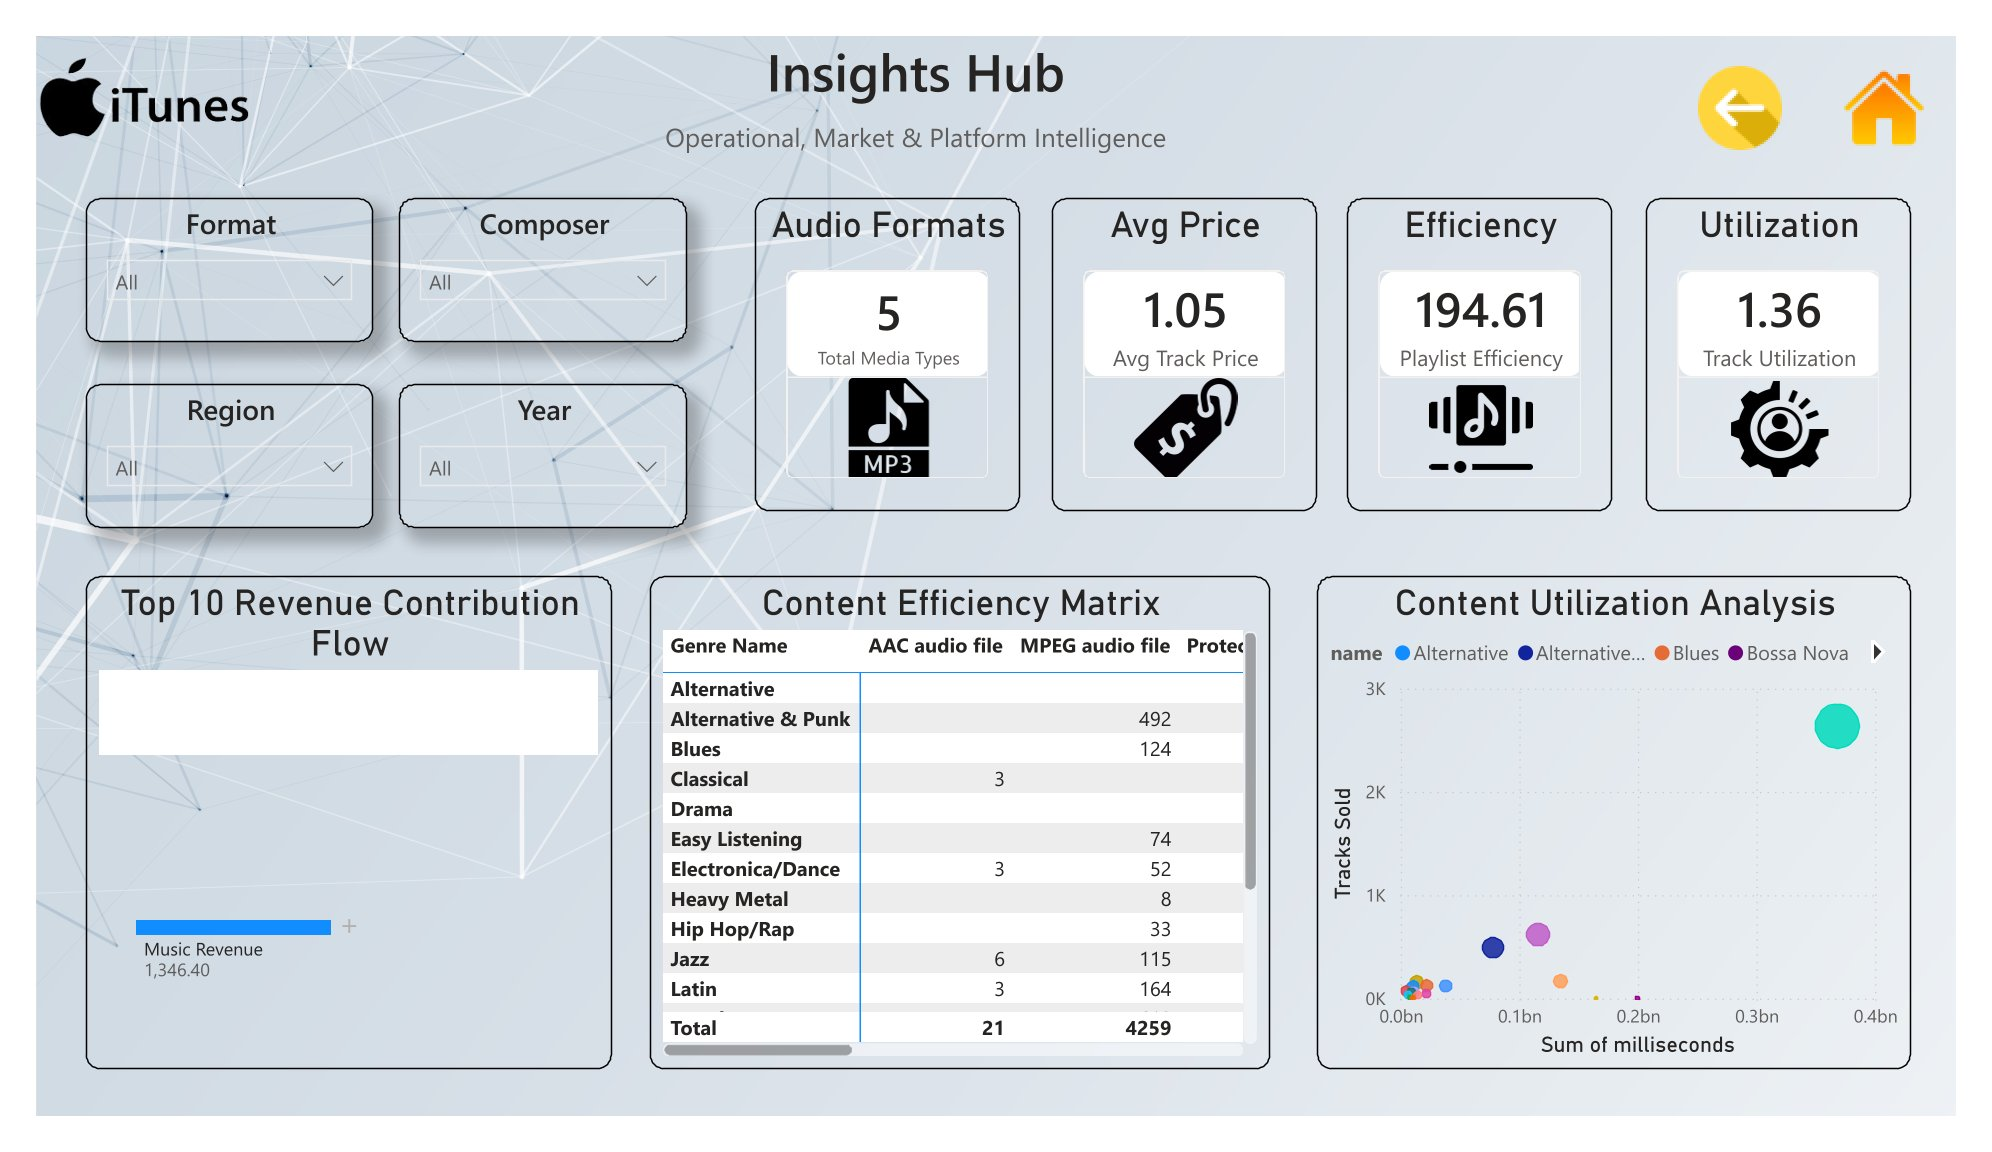

This screenshot's page, from the dashboard's own definition file:
{"tool":"powerbi","page":{"name":"Geographic & Employee Insights","canvas":[1280,720],"ordinal":4},"visuals":[{"type":"image","box":[0,0,1280,720],"z":0},{"type":"image","box":[0,0,144,80],"z":1000},{"type":"actionButton","box":[1184,16,96,64],"z":2000},{"type":"actionButton","box":[1088,16,96,64],"z":3000},{"type":"textbox","title":"Insights Hub","box":[360.7,0,450.8,80],"z":4000},{"type":"slicer","title":"Format","fields":{"Values":["media_type.name"]},"box":[32.9,108.4,192.1,96.1],"z":5000},{"type":"slicer","title":"Composer","fields":{"Values":["track.composer"]},"box":[241.5,108.4,192.1,96.1],"z":6000},{"type":"slicer","title":"Year","fields":{"Values":["invoice.invoice_date.Variation.Date Hierarchy.Year"]},"box":[241.5,231.9,192.1,96.1],"z":7000},{"type":"slicer","title":"Region","fields":{"Values":["customer.state"]},"box":[32.9,231.9,192.1,96.1],"z":8000},{"type":"cardVisual","title":"Audio Formats","fields":{"Data":["media_type.Total Media Types"]},"box":[478.9,108.4,177,208.6],"z":9000},{"type":"cardVisual","title":"Avg Price","fields":{"Data":["track.Avg Track Price"]},"box":[676.5,108.4,177,208.6],"z":10000},{"type":"cardVisual","title":"Efficiency","fields":{"Data":["playlist.Playlist Efficiency"]},"box":[874.1,108.4,177,208.6],"z":11000},{"type":"cardVisual","title":"Utilization","fields":{"Data":["invoice_line.Track Utilization"]},"box":[1073.1,108.4,177,208.6],"z":12000},{"type":"decompositionTreeVisual","title":"Top 10 Revenue Contribution Flow","fields":{"Analyze":["invoice_line.Music Revenue"],"ExplainBy":["genre.name","media_type.name","artist.name","track.composer"]},"box":[32.9,359.5,351.3,329.3],"z":13000},{"type":"pivotTable","title":"Content Efficiency Matrix","fields":{"Rows":["genre.name"],"Columns":["media_type.name"],"Values":["invoice_line.Tracks Sold"]},"box":[408.9,359.5,414.4,329.3],"z":14000},{"type":"scatterChart","title":"Content Utilization Analysis","fields":{"X":["Sum(track.milliseconds)"],"Y":["invoice_line.Tracks Sold"],"Size":["invoice_line.Music Revenue"],"Series":["genre.name"]},"box":[853.5,359.5,396.6,329.3],"z":15000}]}

Visuals, with their boxes in screenshot pixels (x1, y1, x2, y2), scaled from the page's 1280x720 canvas onto the 1992x1152 screenshot:
image: crop(0, 0, 1991, 1151)
image: crop(0, 0, 224, 128)
actionButton: crop(1843, 26, 1991, 128)
actionButton: crop(1693, 26, 1843, 128)
"Insights Hub" textbox: crop(561, 0, 1263, 128)
"Format" slicer: crop(51, 173, 350, 327)
"Composer" slicer: crop(376, 173, 675, 327)
"Year" slicer: crop(376, 371, 675, 525)
"Region" slicer: crop(51, 371, 350, 525)
"Audio Formats" cardVisual: crop(745, 173, 1021, 507)
"Avg Price" cardVisual: crop(1053, 173, 1328, 507)
"Efficiency" cardVisual: crop(1360, 173, 1636, 507)
"Utilization" cardVisual: crop(1670, 173, 1945, 507)
"Top 10 Revenue Contribution Flow" decompositionTreeVisual: crop(51, 575, 598, 1102)
"Content Efficiency Matrix" pivotTable: crop(636, 575, 1281, 1102)
"Content Utilization Analysis" scatterChart: crop(1328, 575, 1945, 1102)
